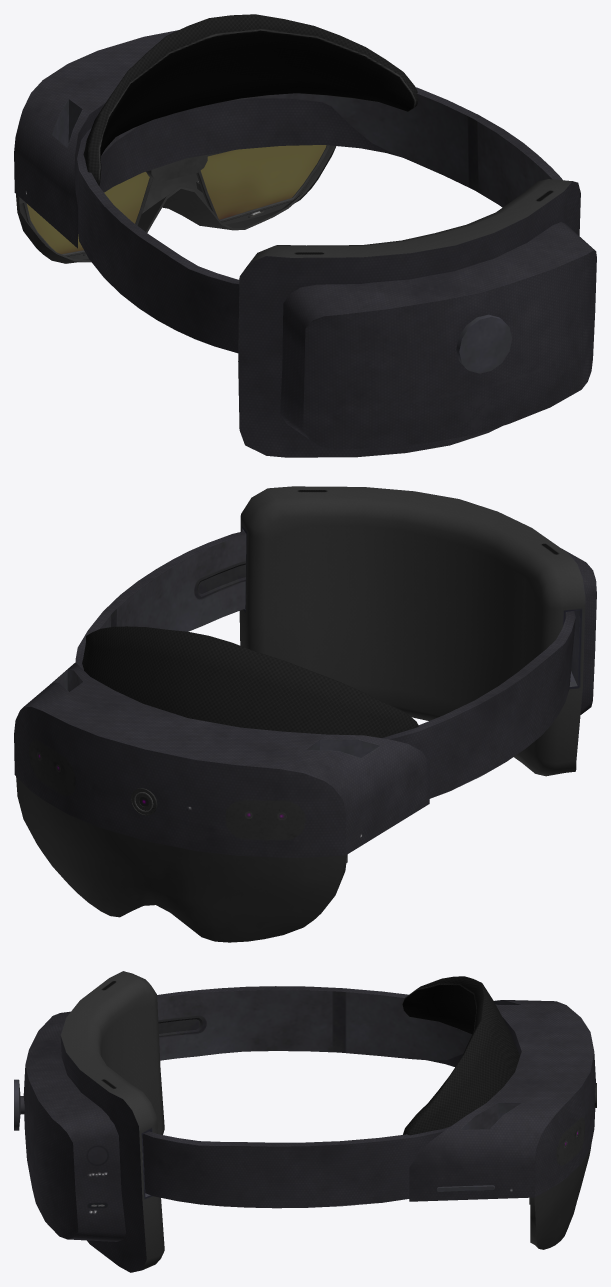
File: gafash2.fbx
The picture shows the model from 3 angles, top to bottom: view 1: azimuth 30°, elevation 25°; view 2: azimuth 150°, elevation 25°; view 3: azimuth 270°, elevation 25°; orthographic projection. The views are drawn at different scales.
Parts seen in each view (by area): view 1: Gafas; view 2: Gafas; view 3: Gafas.
Boxes of the visible parts, x1,y1,x2,y2 form: Gafas: [14, 14, 596, 457]; Gafas: [14, 486, 596, 942]; Gafas: [14, 971, 596, 1272].
Size of the model in its own units: 33.33 by 21.16 by 51.15.
Materials: 1 (1 with a texture image).
